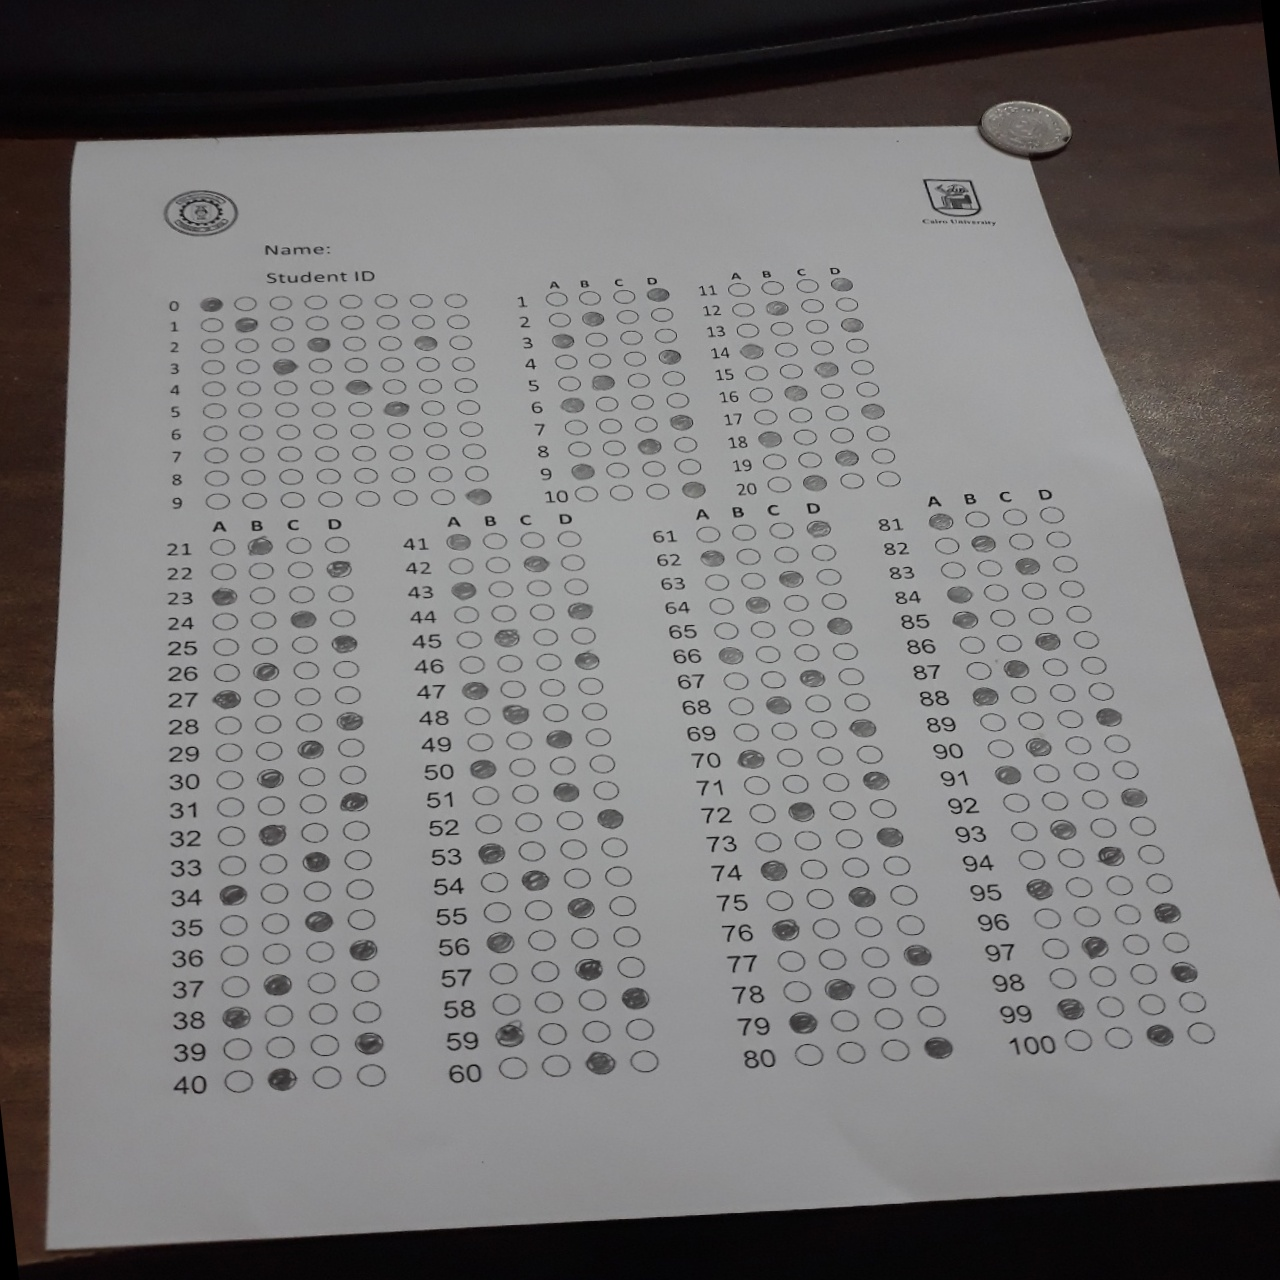not-c: (210, 765, 248, 794), (304, 1033, 343, 1058), (213, 972, 253, 998), (257, 941, 297, 967), (215, 1068, 256, 1092), (537, 1053, 576, 1078), (530, 1020, 568, 1046), (577, 1017, 615, 1043), (261, 1033, 300, 1058), (301, 972, 340, 998), (215, 942, 253, 968), (332, 733, 370, 758), (244, 631, 282, 656), (350, 1063, 390, 1088), (218, 1037, 258, 1062), (298, 939, 338, 964), (870, 1005, 906, 1032), (621, 1014, 659, 1040), (245, 604, 282, 629), (1087, 959, 1121, 987), (346, 1000, 384, 1024), (305, 1065, 343, 1090), (305, 1002, 343, 1027), (258, 1005, 297, 1029), (346, 967, 384, 992), (316, 529, 355, 553), (915, 1005, 951, 1032), (817, 944, 852, 971), (858, 944, 893, 971), (760, 883, 795, 910), (789, 828, 824, 855), (751, 828, 787, 855), (885, 880, 921, 906), (864, 973, 900, 999), (829, 1037, 865, 1063), (770, 947, 806, 973), (743, 798, 779, 824), (804, 716, 840, 742), (772, 743, 809, 769), (728, 716, 764, 742), (246, 712, 282, 737), (257, 912, 294, 937), (338, 874, 375, 899), (338, 815, 375, 839), (210, 794, 247, 818), (252, 794, 290, 818), (247, 686, 285, 710), (288, 685, 326, 709), (209, 660, 246, 685), (286, 633, 324, 658), (322, 583, 360, 607), (278, 530, 315, 554), (278, 557, 315, 581), (246, 583, 284, 607), (1126, 959, 1160, 986), (1046, 964, 1080, 990), (1092, 992, 1126, 1019), (1132, 988, 1166, 1015), (1177, 987, 1211, 1014), (1184, 1016, 1218, 1043), (1103, 1024, 1137, 1051), (876, 1035, 911, 1061), (906, 971, 941, 996), (891, 912, 926, 938), (878, 852, 913, 878), (864, 796, 899, 822), (852, 740, 887, 765), (790, 1033, 825, 1058), (826, 1008, 862, 1034), (777, 979, 812, 1005), (849, 912, 884, 938), (808, 914, 843, 940), (802, 886, 837, 912), (835, 852, 870, 878), (798, 856, 833, 881), (828, 823, 863, 849), (825, 798, 860, 824), (775, 770, 810, 796), (738, 771, 774, 797), (811, 740, 846, 765), (765, 715, 801, 741), (291, 821, 329, 844), (291, 765, 329, 789), (207, 634, 246, 658), (202, 533, 240, 557), (241, 557, 280, 580), (628, 1049, 665, 1074), (297, 877, 333, 901), (254, 850, 291, 874), (328, 685, 365, 709), (322, 605, 359, 629), (1061, 1023, 1094, 1050), (213, 737, 246, 764), (256, 879, 293, 903), (212, 853, 250, 877), (331, 763, 368, 787), (248, 737, 286, 761), (327, 658, 365, 681), (204, 561, 241, 585), (279, 579, 316, 602), (207, 608, 245, 632), (1085, 815, 1119, 840), (813, 768, 847, 794), (212, 913, 248, 937), (342, 908, 379, 932), (215, 824, 251, 847), (295, 792, 332, 816), (287, 658, 324, 681), (1069, 904, 1102, 930), (488, 989, 520, 1015), (527, 959, 560, 985), (520, 896, 553, 921), (338, 846, 375, 869), (558, 837, 593, 860), (516, 838, 551, 862), (559, 864, 594, 887), (600, 864, 635, 887), (607, 924, 642, 947), (612, 954, 647, 978), (527, 990, 563, 1014), (493, 1055, 529, 1078), (1121, 930, 1152, 955), (1158, 930, 1190, 955), (525, 924, 557, 949), (1060, 731, 1092, 756), (1039, 787, 1071, 811), (1005, 817, 1037, 842), (1125, 812, 1158, 837), (1142, 871, 1175, 896), (1040, 933, 1073, 958), (595, 835, 629, 858), (649, 324, 683, 347), (474, 872, 509, 894), (602, 896, 638, 918), (486, 961, 522, 983), (1051, 706, 1083, 730), (983, 734, 1015, 758), (1133, 843, 1165, 867), (1032, 905, 1063, 930), (212, 713, 244, 737), (1099, 730, 1132, 754), (1108, 758, 1141, 782), (1054, 845, 1087, 869), (1102, 872, 1135, 896), (1111, 903, 1144, 926), (828, 640, 862, 662), (813, 565, 847, 587), (706, 594, 740, 617), (554, 551, 588, 573), (566, 624, 600, 646), (445, 557, 479, 579), (486, 577, 520, 599), (522, 576, 556, 598), (470, 782, 504, 804), (567, 927, 601, 949), (576, 989, 610, 1012), (478, 900, 512, 922), (835, 471, 869, 493), (641, 481, 675, 503), (566, 484, 600, 506), (661, 386, 695, 408), (645, 300, 679, 322), (1064, 874, 1095, 899), (1032, 760, 1063, 783), (1001, 790, 1033, 813), (1015, 846, 1047, 870), (511, 812, 546, 833), (724, 694, 757, 716), (798, 692, 831, 714), (833, 665, 866, 687), (764, 516, 797, 538), (771, 544, 804, 566), (727, 522, 760, 544), (550, 527, 583, 550), (760, 668, 792, 690), (866, 444, 899, 467), (670, 454, 703, 476), (605, 482, 638, 504), (633, 455, 666, 477), (598, 458, 631, 481), (565, 437, 598, 459), (601, 436, 634, 458), (669, 435, 702, 457), (656, 366, 689, 388), (818, 591, 852, 612), (728, 546, 762, 567), (712, 621, 745, 642), (750, 642, 784, 663), (789, 642, 823, 663), (782, 617, 816, 638), (508, 784, 542, 805), (761, 474, 795, 495), (1026, 605, 1056, 628), (1073, 760, 1103, 783), (1078, 787, 1109, 810), (581, 327, 612, 350), (625, 368, 655, 392), (688, 522, 720, 544), (719, 669, 750, 692), (702, 572, 734, 594), (558, 578, 590, 600), (551, 349, 583, 372), (292, 712, 327, 731), (839, 692, 872, 713), (809, 540, 842, 561), (733, 570, 765, 591), (748, 620, 781, 641), (781, 592, 813, 613), (517, 527, 550, 549), (476, 527, 509, 549), (481, 554, 513, 576), (502, 729, 535, 750), (872, 467, 905, 488), (411, 350, 444, 372), (1049, 552, 1080, 574), (1054, 578, 1084, 600), (1015, 579, 1046, 601), (956, 632, 987, 654), (986, 606, 1016, 628), (545, 308, 576, 331), (613, 304, 644, 326), (621, 349, 652, 372), (554, 372, 585, 394), (474, 812, 508, 832), (978, 585, 1009, 606), (455, 653, 486, 674), (457, 704, 489, 726), (462, 729, 493, 750), (506, 754, 538, 775), (629, 411, 661, 433), (268, 333, 300, 354), (263, 313, 294, 334), (231, 377, 263, 399), (271, 377, 302, 399), (305, 377, 336, 399), (535, 676, 567, 696), (585, 753, 618, 772), (590, 779, 622, 799), (553, 810, 586, 830), (273, 422, 306, 442), (345, 442, 377, 462), (617, 327, 646, 349), (587, 348, 617, 370), (597, 414, 626, 436), (1063, 602, 1094, 624), (1070, 629, 1101, 651), (992, 636, 1022, 658), (1040, 655, 1070, 676), (1048, 681, 1078, 702), (1006, 683, 1036, 704), (583, 726, 613, 747), (546, 755, 577, 776), (627, 390, 658, 411), (336, 334, 367, 355), (200, 400, 231, 421), (233, 420, 264, 441), (343, 418, 374, 440), (307, 420, 338, 441), (275, 443, 306, 464), (275, 490, 309, 509), (496, 679, 527, 699), (787, 425, 818, 445), (828, 424, 859, 444), (427, 486, 458, 506), (407, 309, 438, 329), (306, 356, 338, 376), (338, 354, 369, 374), (231, 336, 263, 356), (197, 314, 229, 334), (298, 311, 329, 331), (196, 375, 227, 395), (202, 423, 233, 443), (203, 467, 234, 486), (202, 490, 233, 510), (236, 467, 267, 486), (234, 442, 266, 462), (234, 399, 266, 418), (308, 397, 340, 417), (346, 399, 377, 418), (273, 464, 305, 484), (311, 463, 342, 483), (350, 467, 382, 486), (388, 488, 420, 508), (574, 286, 602, 308), (962, 660, 992, 681), (1078, 654, 1108, 675), (976, 712, 1006, 733), (1016, 709, 1046, 730), (496, 651, 525, 672), (543, 288, 572, 309), (593, 392, 622, 413), (441, 290, 470, 311), (527, 601, 558, 621), (576, 675, 606, 695), (783, 406, 813, 425), (823, 404, 853, 424), (415, 372, 445, 392), (233, 356, 264, 376), (376, 373, 407, 393), (334, 313, 365, 333), (198, 334, 229, 354), (199, 443, 230, 463), (273, 399, 304, 418), (382, 421, 413, 441), (1042, 527, 1070, 549), (1085, 680, 1114, 701), (767, 338, 798, 356), (849, 382, 880, 401), (815, 381, 846, 400), (561, 418, 590, 440), (461, 463, 492, 482), (427, 464, 458, 483), (373, 355, 404, 374), (372, 336, 403, 355), (370, 313, 402, 332), (197, 355, 229, 374), (353, 489, 384, 508), (452, 629, 482, 649), (529, 627, 558, 647), (532, 649, 561, 669), (777, 361, 806, 381), (846, 358, 876, 377), (450, 606, 481, 625), (579, 700, 610, 719), (542, 702, 572, 721), (863, 425, 893, 444), (458, 440, 489, 458), (422, 442, 452, 461), (416, 417, 447, 436), (415, 399, 445, 417), (239, 492, 270, 511), (314, 489, 345, 508), (382, 442, 413, 461), (389, 464, 420, 483), (1036, 504, 1064, 524), (998, 506, 1026, 526), (1006, 531, 1034, 551), (934, 535, 962, 554), (938, 559, 966, 579), (754, 279, 785, 297), (790, 275, 822, 293), (799, 316, 831, 334), (486, 602, 516, 621), (298, 291, 327, 309), (265, 293, 294, 312), (444, 312, 474, 331), (962, 508, 989, 527), (975, 558, 1002, 578), (745, 386, 772, 406), (765, 319, 796, 336), (803, 338, 833, 355), (795, 451, 823, 470), (762, 450, 790, 469), (751, 407, 779, 425), (370, 288, 399, 307), (335, 291, 363, 309), (229, 293, 257, 312), (831, 297, 863, 313), (794, 297, 825, 313), (447, 354, 476, 372), (455, 418, 484, 436), (745, 365, 772, 383), (734, 319, 761, 338), (445, 335, 476, 352), (406, 292, 434, 309), (454, 397, 483, 414), (731, 302, 758, 320), (839, 338, 870, 353), (451, 376, 479, 393), (726, 282, 755, 297), (611, 290, 638, 305)
taken-c: (619, 986, 654, 1012), (261, 972, 295, 998), (297, 849, 331, 874), (1080, 933, 1112, 959), (343, 938, 376, 964), (229, 312, 261, 338), (350, 1030, 384, 1055), (265, 1068, 299, 1092), (300, 908, 334, 933), (256, 821, 290, 845), (294, 737, 328, 762), (331, 709, 365, 734), (248, 658, 282, 682), (209, 585, 243, 610), (218, 1003, 251, 1028), (336, 789, 369, 813), (211, 686, 244, 710), (268, 354, 301, 379), (1142, 1022, 1176, 1046), (491, 1022, 525, 1046), (286, 606, 320, 629), (218, 881, 250, 906), (254, 765, 286, 790), (196, 292, 227, 316), (901, 942, 934, 966), (770, 918, 803, 941), (758, 857, 791, 880), (326, 632, 359, 655), (322, 558, 355, 581), (1053, 998, 1087, 1020), (821, 978, 855, 1000), (784, 799, 816, 823), (564, 896, 595, 919), (1023, 879, 1056, 901), (1148, 901, 1180, 924), (921, 1036, 954, 1058), (785, 1012, 818, 1034), (846, 886, 879, 908), (761, 693, 794, 715), (586, 1051, 615, 1076), (573, 956, 604, 980), (874, 825, 906, 847), (860, 768, 892, 790), (1167, 962, 1200, 983), (713, 644, 745, 665), (799, 516, 832, 537), (676, 479, 709, 501), (477, 842, 506, 865), (484, 930, 513, 953), (519, 867, 550, 890), (965, 533, 996, 554), (734, 747, 765, 768), (796, 668, 828, 689), (694, 545, 726, 566), (564, 600, 595, 621), (445, 580, 477, 601), (550, 781, 581, 802), (822, 614, 855, 634), (740, 592, 772, 612), (595, 806, 625, 829), (924, 511, 954, 532), (947, 608, 978, 629), (520, 553, 551, 574), (945, 583, 976, 602), (1000, 658, 1032, 678), (846, 719, 878, 738), (771, 568, 803, 588), (442, 531, 474, 551), (568, 651, 600, 670), (542, 729, 573, 749), (666, 413, 697, 433), (499, 704, 532, 723), (1012, 556, 1042, 576), (971, 687, 1001, 707), (1022, 737, 1053, 757), (993, 765, 1023, 785), (490, 628, 520, 648), (465, 758, 496, 778), (568, 461, 599, 481), (828, 447, 858, 467), (1032, 633, 1063, 652), (1095, 846, 1126, 865), (302, 334, 334, 353), (377, 400, 409, 418), (576, 308, 607, 327), (779, 384, 811, 403), (1119, 787, 1149, 806), (799, 474, 829, 493), (1046, 821, 1076, 839), (458, 680, 489, 699), (588, 370, 619, 389), (636, 437, 667, 456), (737, 342, 768, 361), (755, 429, 785, 448), (791, 452, 822, 471), (855, 402, 885, 421), (557, 395, 588, 413), (1092, 707, 1122, 726), (342, 380, 372, 399), (549, 331, 578, 349), (245, 537, 275, 554), (408, 334, 438, 352), (464, 486, 495, 504), (654, 343, 685, 361), (644, 286, 673, 304), (813, 360, 843, 377), (763, 300, 794, 316), (826, 274, 857, 291), (836, 315, 865, 332)
